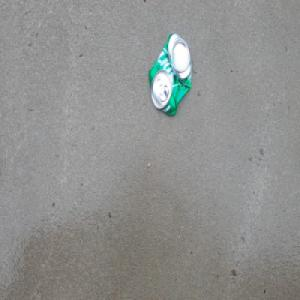SodaCan: (147, 30, 193, 118)
